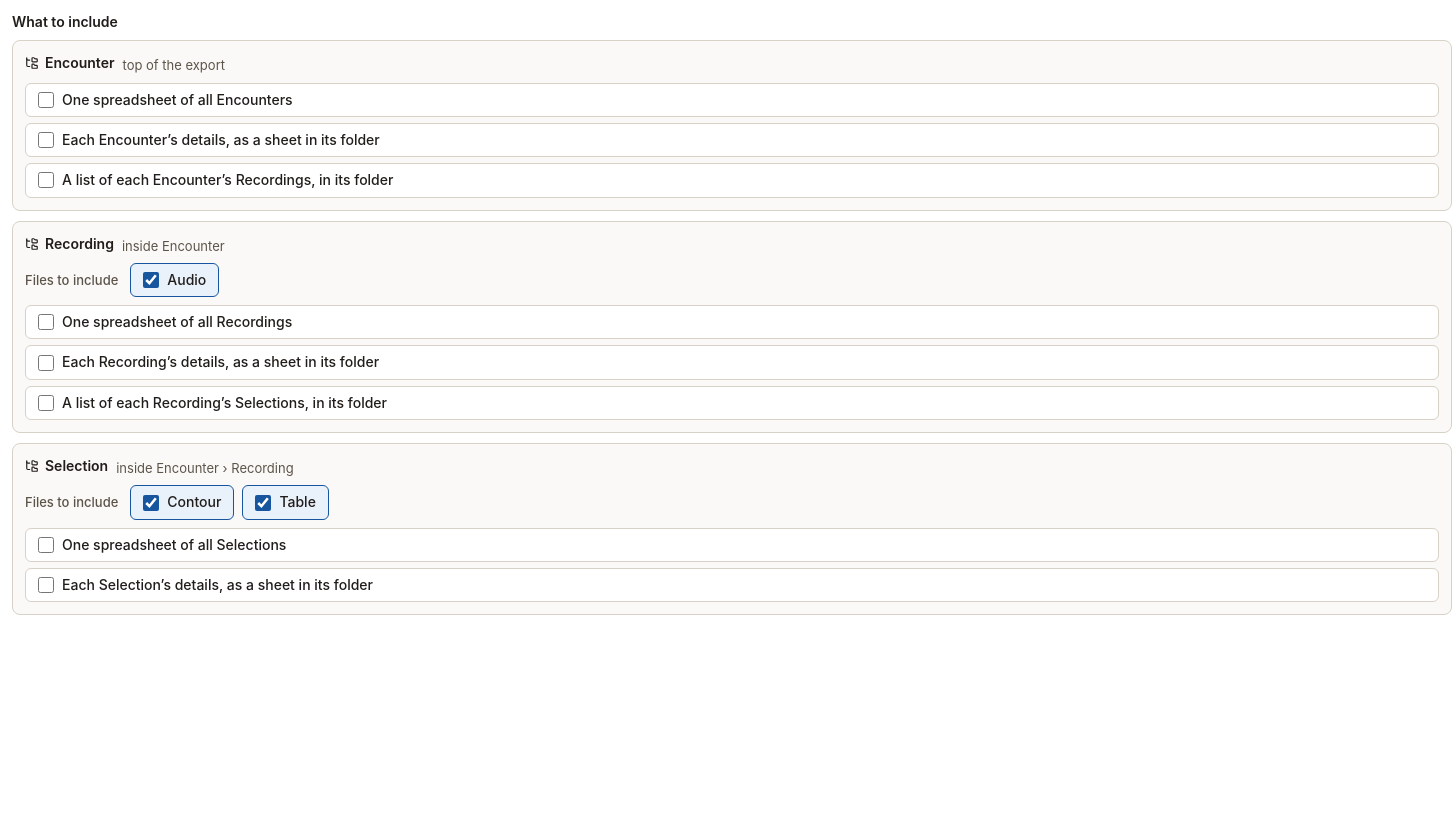
what goes in the folder › says when nothing is included
Click the checkbox labelled "Audio".
click(151, 280)  # box [143,272,159,288]
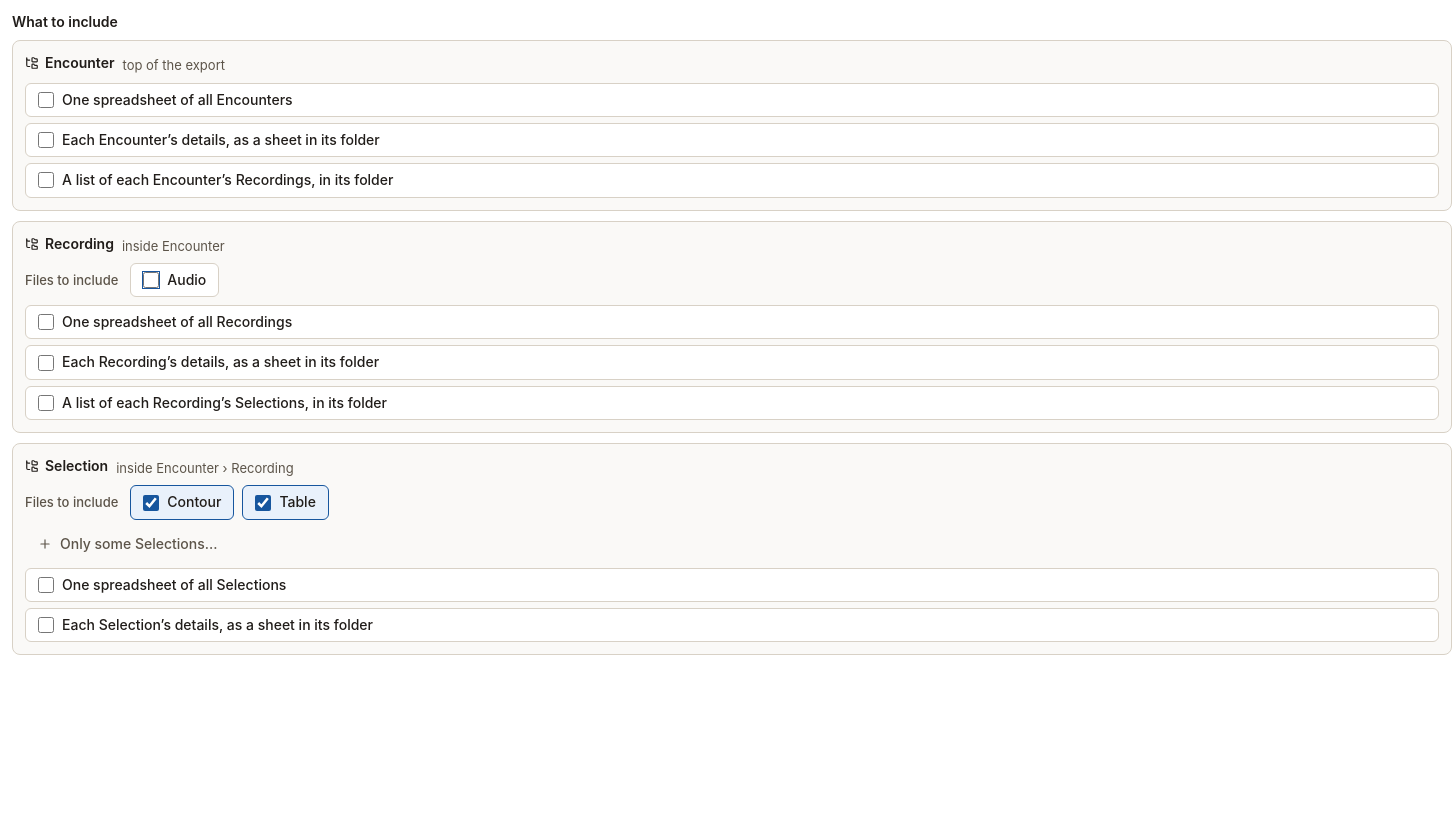
Click the checkbox labelled "Contour".
click(151, 502)  # box [143,494,159,510]
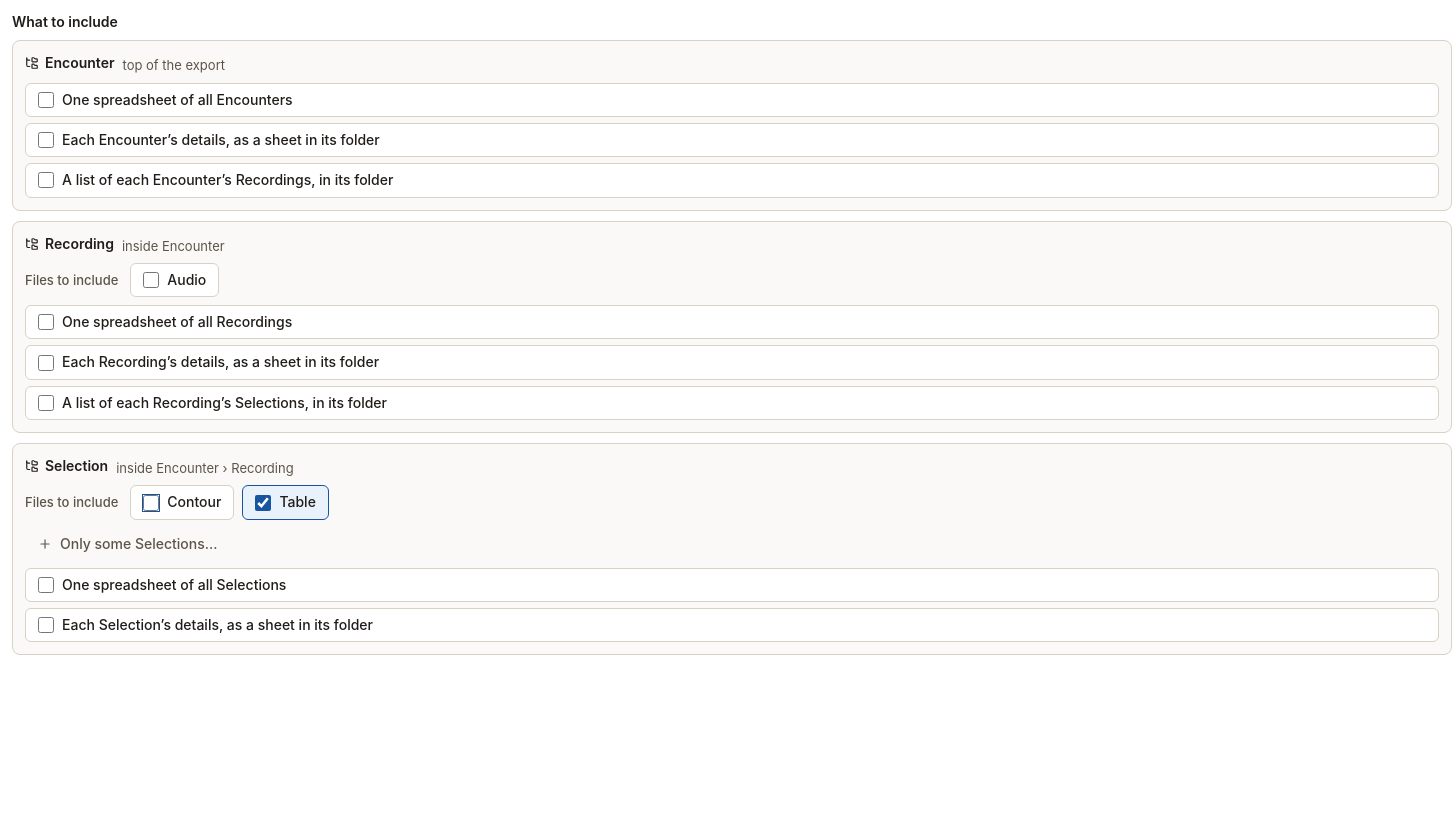
Click the checkbox labelled "Table".
click(263, 502)  # box [255,494,271,510]
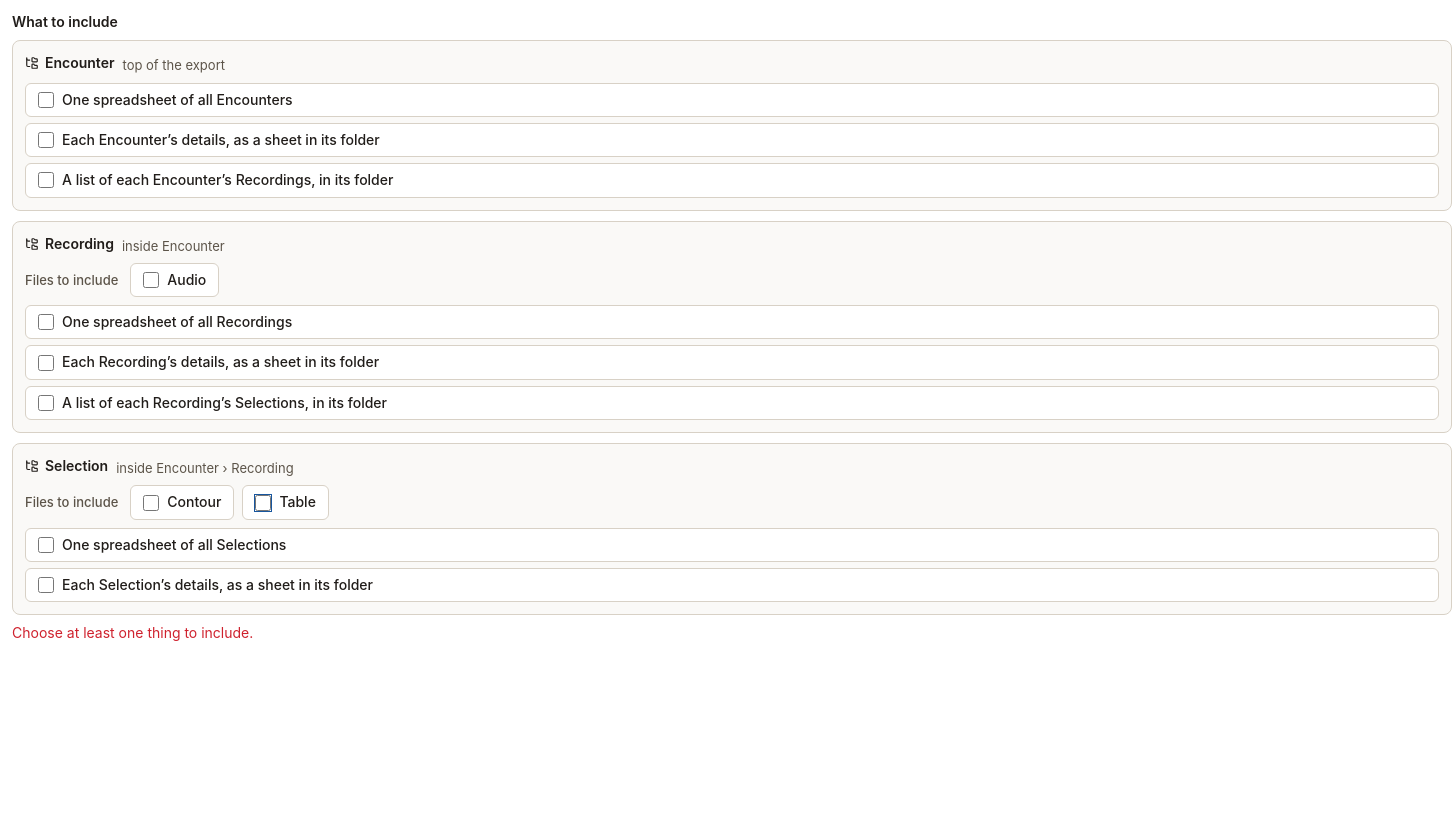
Check: the text "Choose at least one thing to include." is shown, box [12,624,253,641]
Click the checkbox labelled "One spreadsheet of all Selections".
click(46, 545)  # box [38,537,54,553]
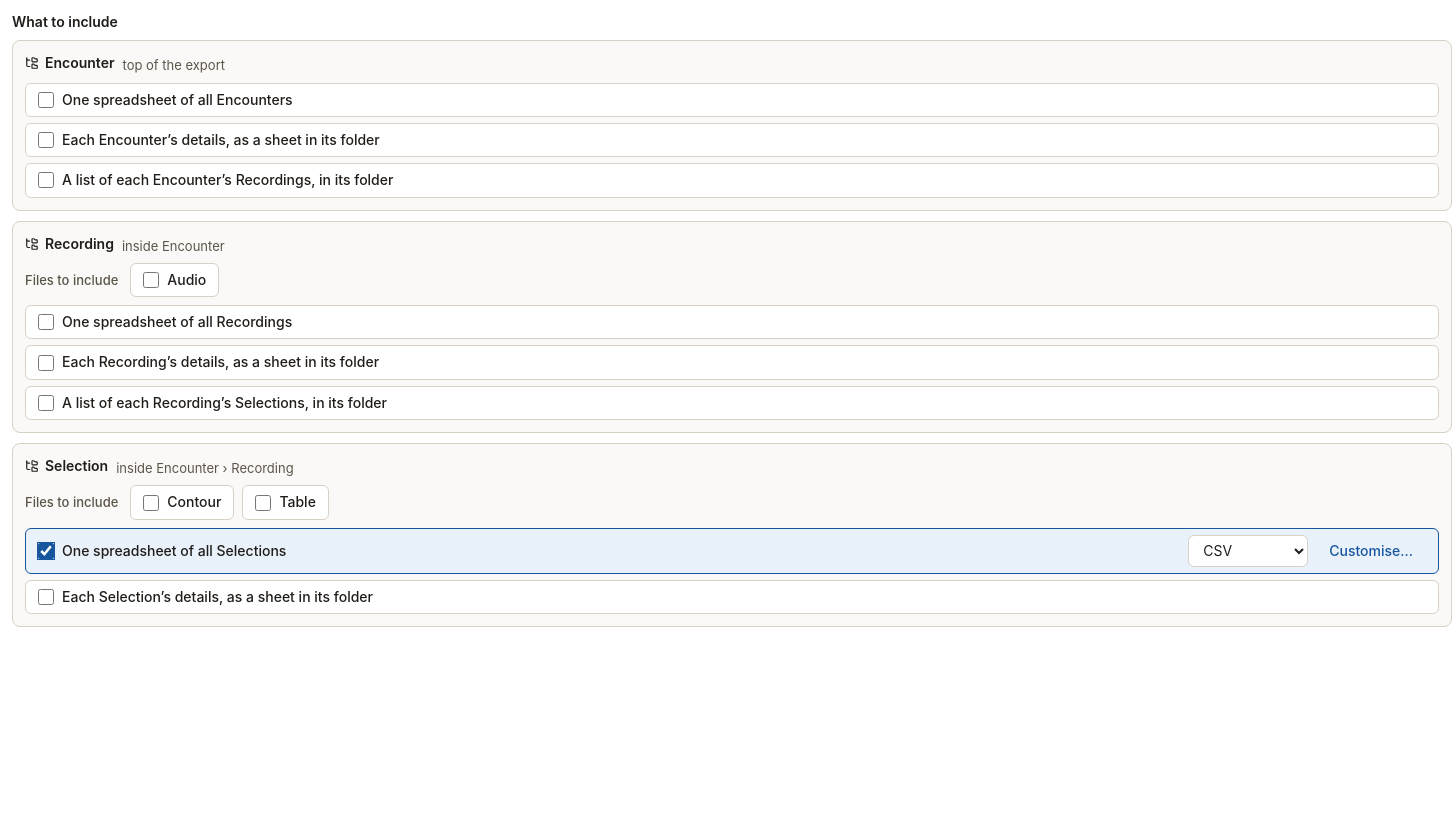
Check: the text "Choose at least one thing to include" is gone
